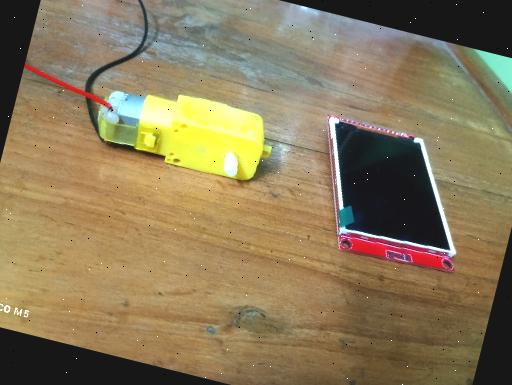Display: (295, 112, 484, 279)
Motor: (88, 72, 281, 190)
